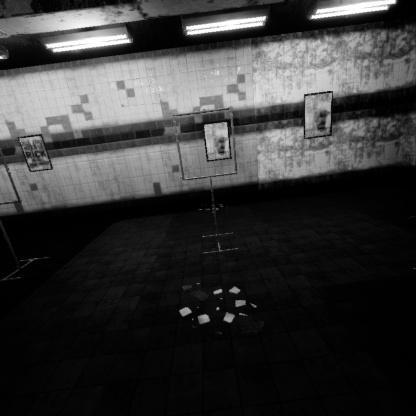gate: (172, 234, 243, 310)
